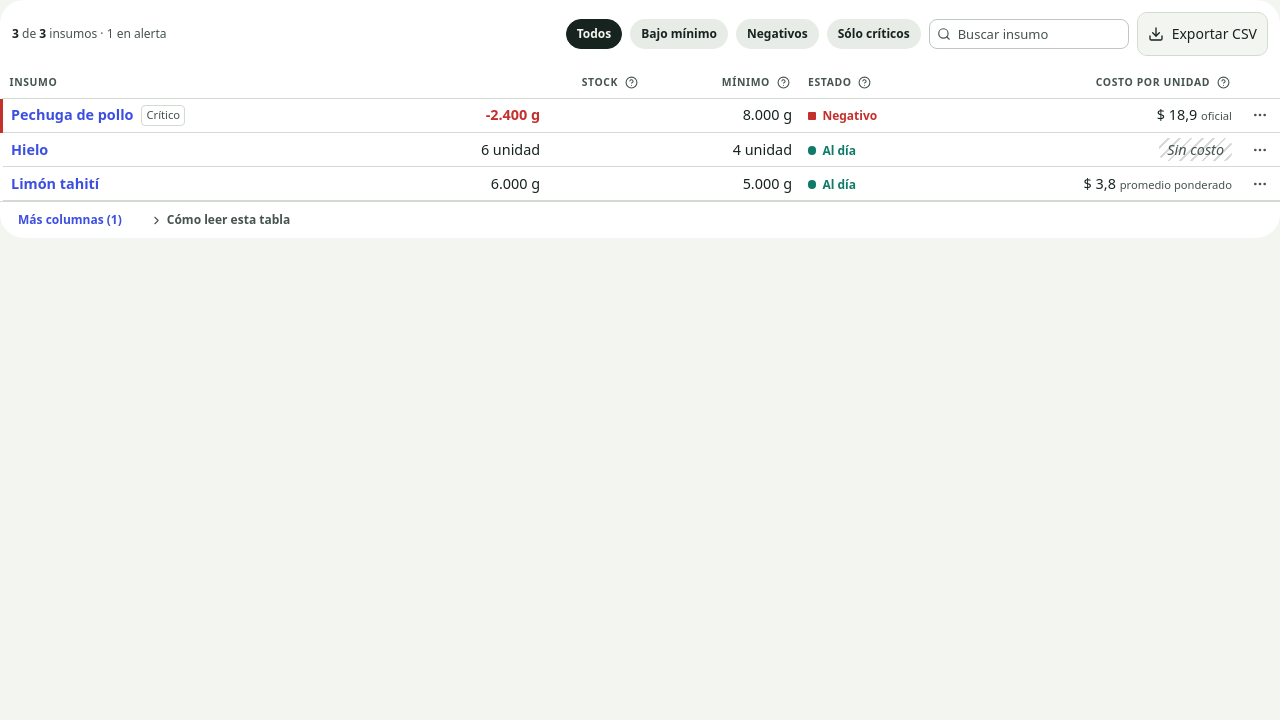
StockTab — la tabla densa del handoff › el «⋯» trae ficha, ajuste, libro y —con conteo por área— recuento, con la nota «Nada se borra»
The image size is (1280, 720).
Click the button named "Acciones de Hielo" at (1260, 150), box [1246, 136, 1274, 164]
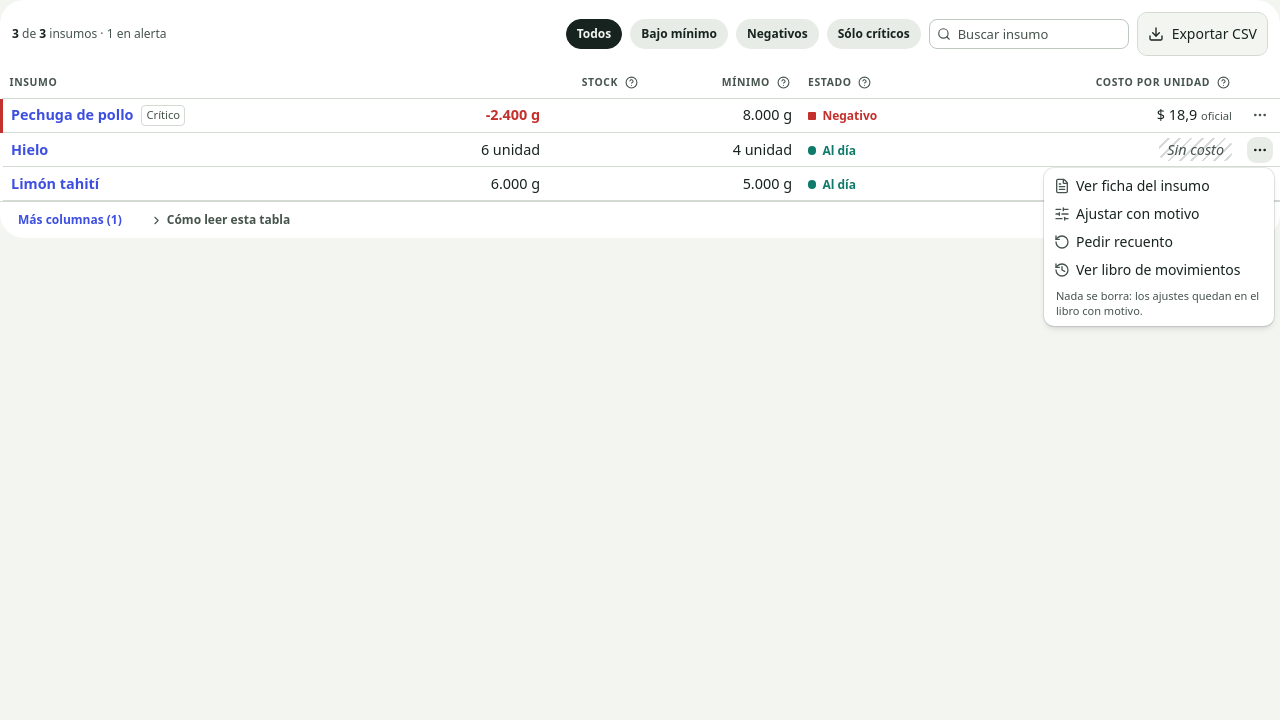
Expected: the menu item "Ver ficha del insumo" is shown, [1054, 176, 1210, 195]
Expected: the menu item "Ajustar con motivo" is shown
Expected: the menu item "Pedir recuento" is shown, [1054, 232, 1173, 251]
«Ajustar con motivo» abre el ajuste de siempre (PIN y motivo), con el insumo ya elegido.
Click the menu item "Ajustar con motivo" at (1127, 214), box [1054, 204, 1200, 223]
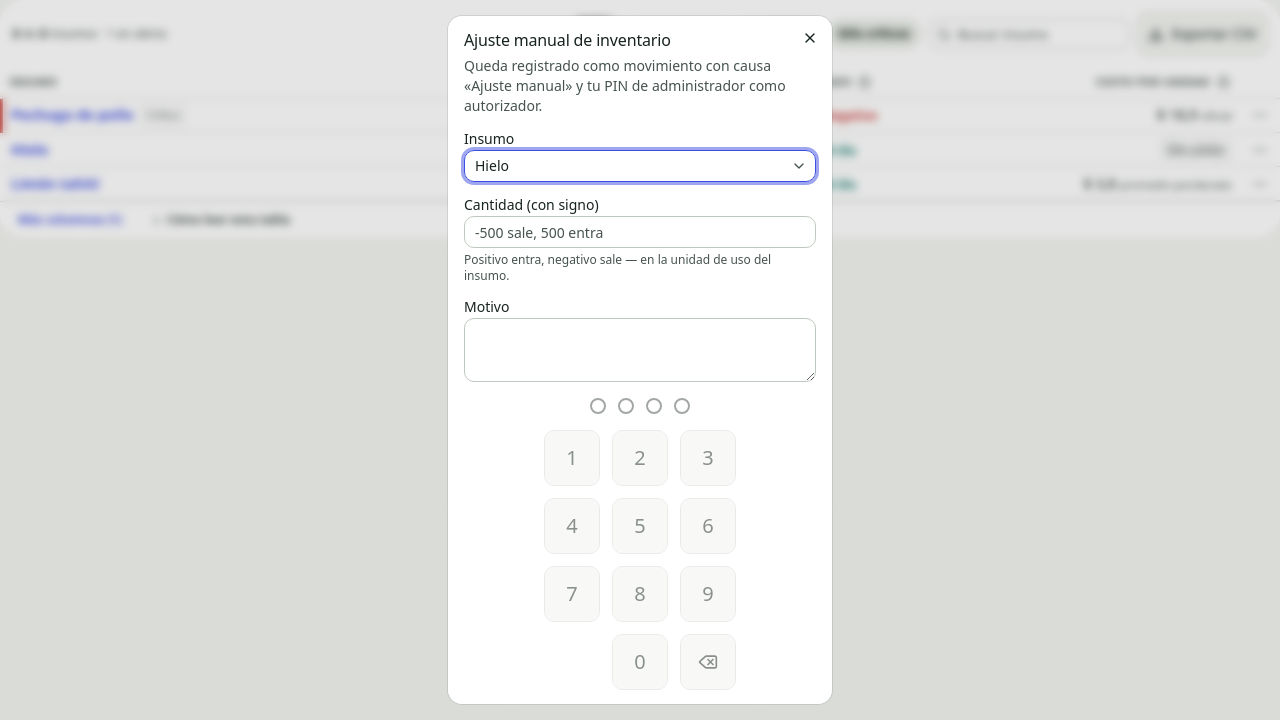
Expected: the heading "Ajuste manual de inventario" is shown, [464, 29, 671, 51]
Expected: the text "Hielo" is shown, [475, 156, 509, 175]
